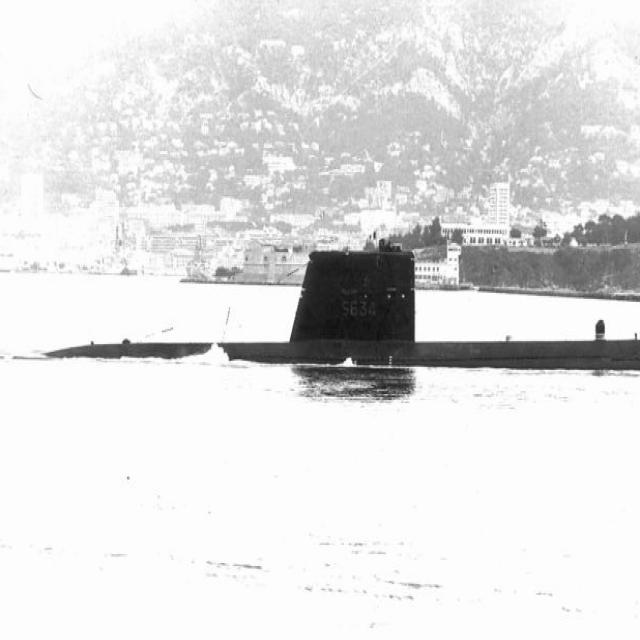submarine: (45, 247, 640, 355)
